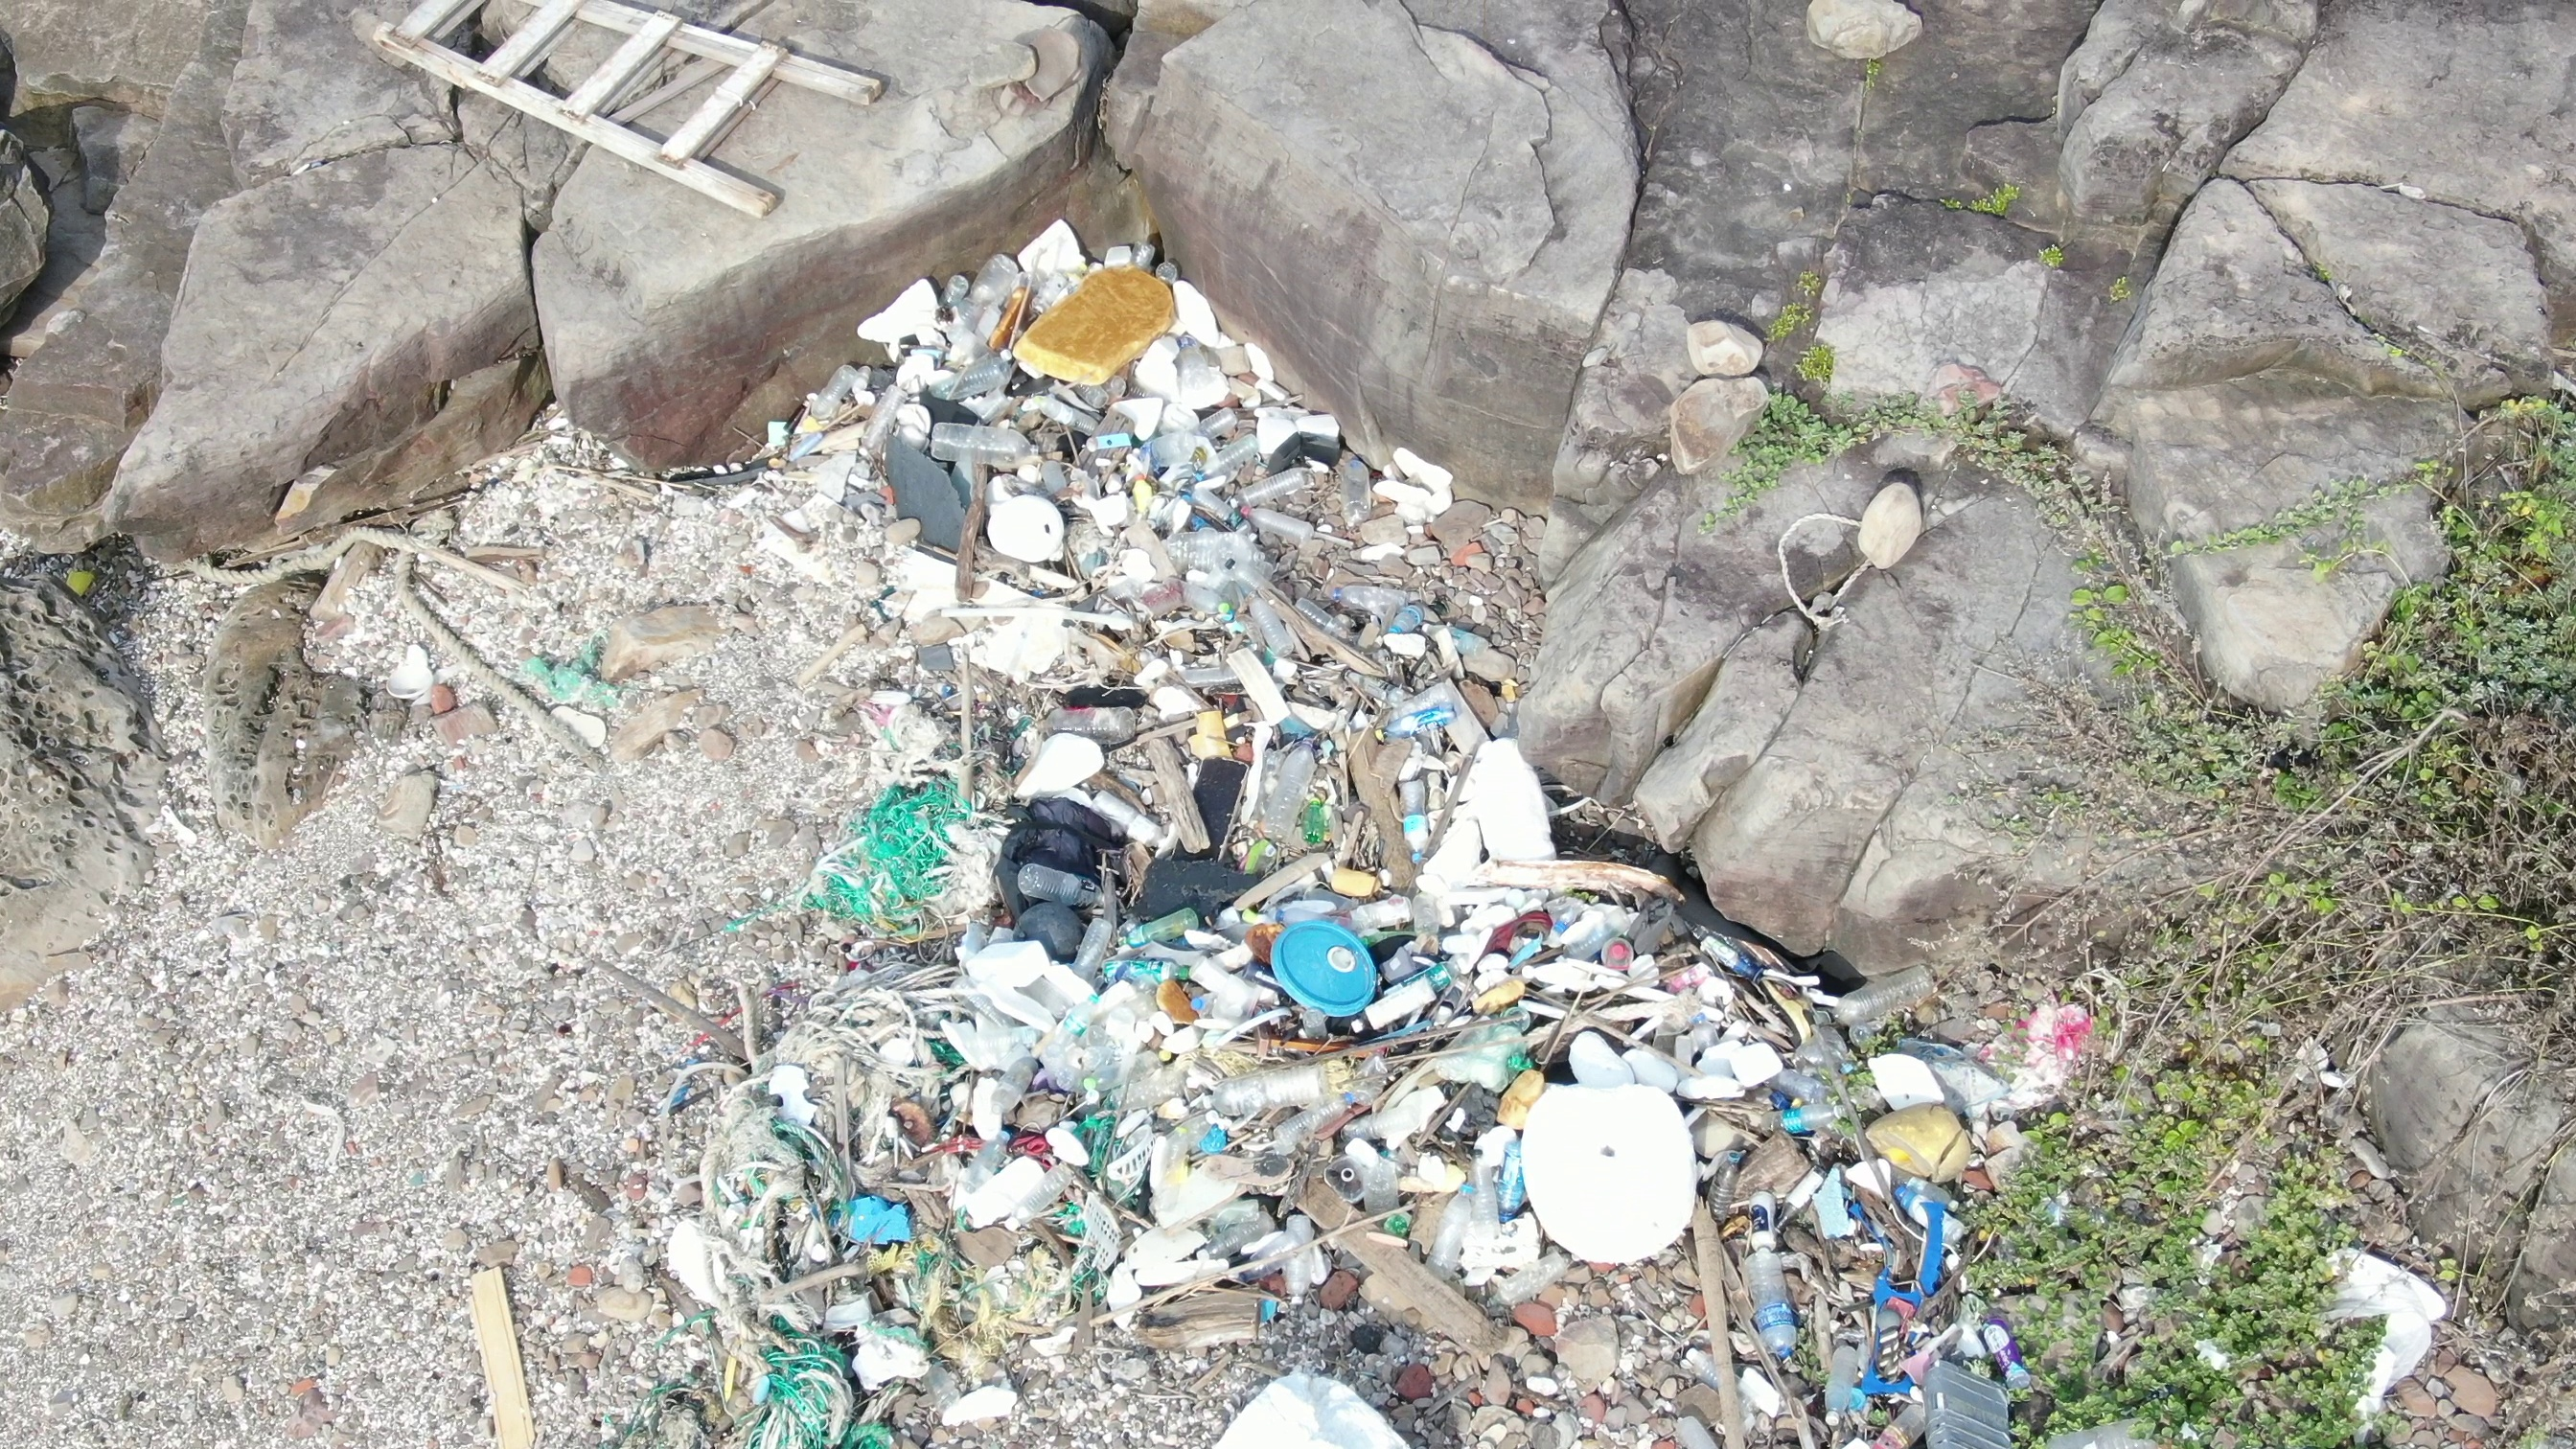bottle: (1336, 955, 1460, 1063), (918, 251, 1039, 350), (1192, 1051, 1361, 1116), (1260, 727, 1327, 853), (1739, 1226, 1803, 1357), (1813, 964, 1948, 1026), (929, 416, 1062, 478), (1242, 497, 1330, 568), (1338, 444, 1396, 543), (1973, 1304, 2036, 1389), (1316, 573, 1433, 619), (1109, 902, 1207, 957), (1371, 697, 1467, 752), (1238, 579, 1306, 656), (1819, 1343, 1877, 1430), (1755, 1099, 1859, 1146), (1398, 773, 1438, 881), (810, 361, 863, 433), (1171, 315, 1212, 409), (931, 370, 1019, 407), (1707, 1138, 1744, 1224), (1148, 533, 1251, 563), (1100, 952, 1180, 985), (1300, 793, 1336, 867), (1233, 474, 1295, 513)
garbage: (556, 899, 2114, 1449), (747, 218, 1688, 1085), (347, 2, 901, 234), (182, 531, 635, 777), (2284, 1231, 2477, 1449), (1776, 495, 1941, 649)
